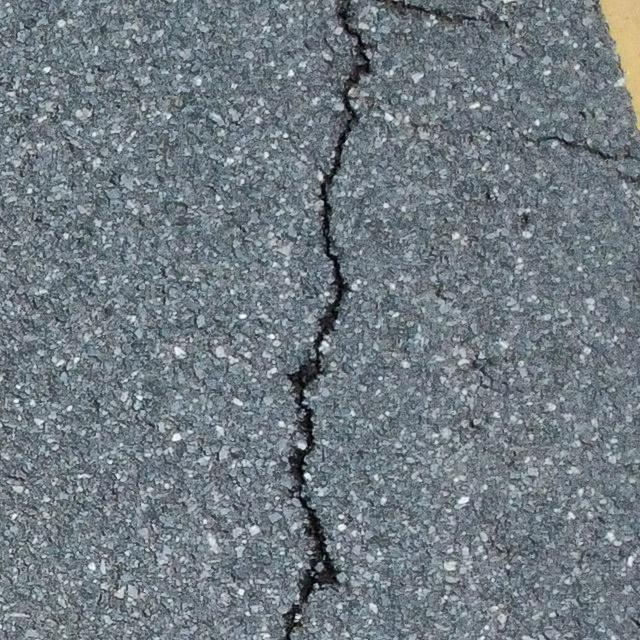LongitudinalCrack: (283, 1, 371, 640)
